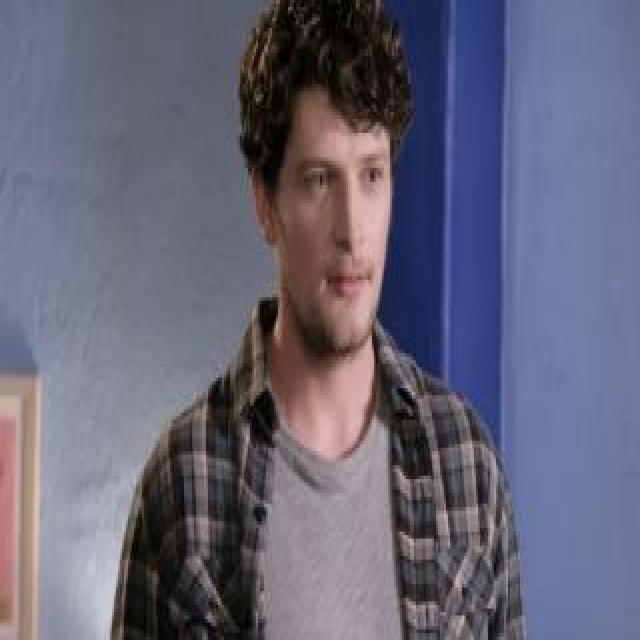mobile_phonerotation: (104, 0, 528, 637)
